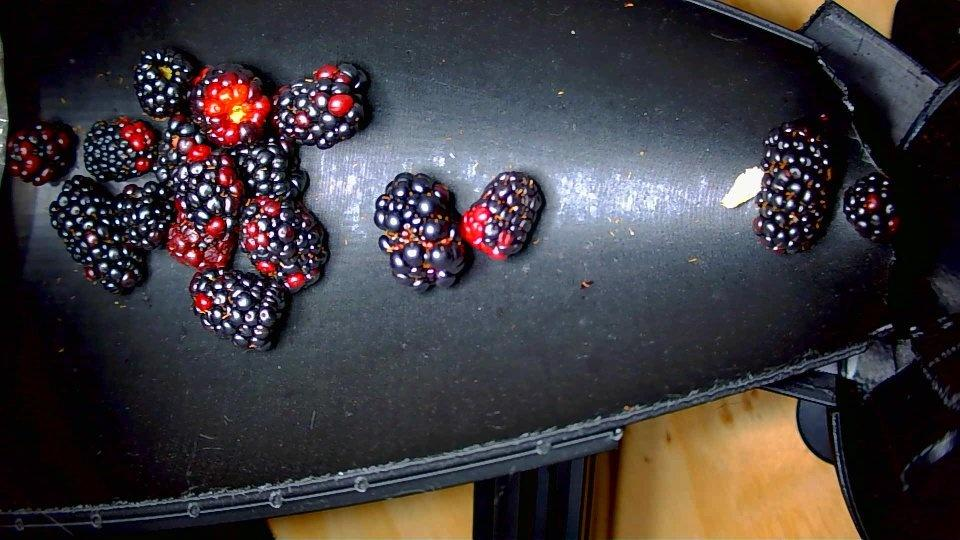berry: (752, 116, 835, 253), (50, 176, 145, 293), (374, 173, 465, 290), (166, 144, 246, 269), (240, 196, 328, 292), (189, 268, 286, 349), (272, 64, 365, 148), (460, 171, 543, 259), (189, 64, 270, 146), (83, 117, 157, 180), (229, 138, 308, 197), (6, 122, 75, 185), (134, 48, 194, 119), (115, 181, 175, 250), (843, 173, 900, 241), (153, 113, 206, 186)
